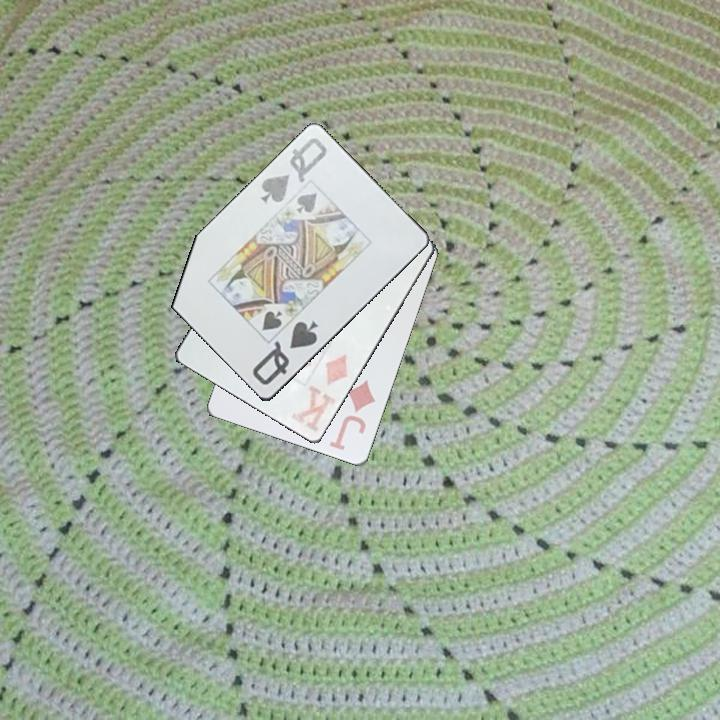Jd: (327, 376, 378, 454)
Kd: (288, 351, 352, 435)
Qs: (256, 134, 330, 207), (249, 317, 322, 389)
